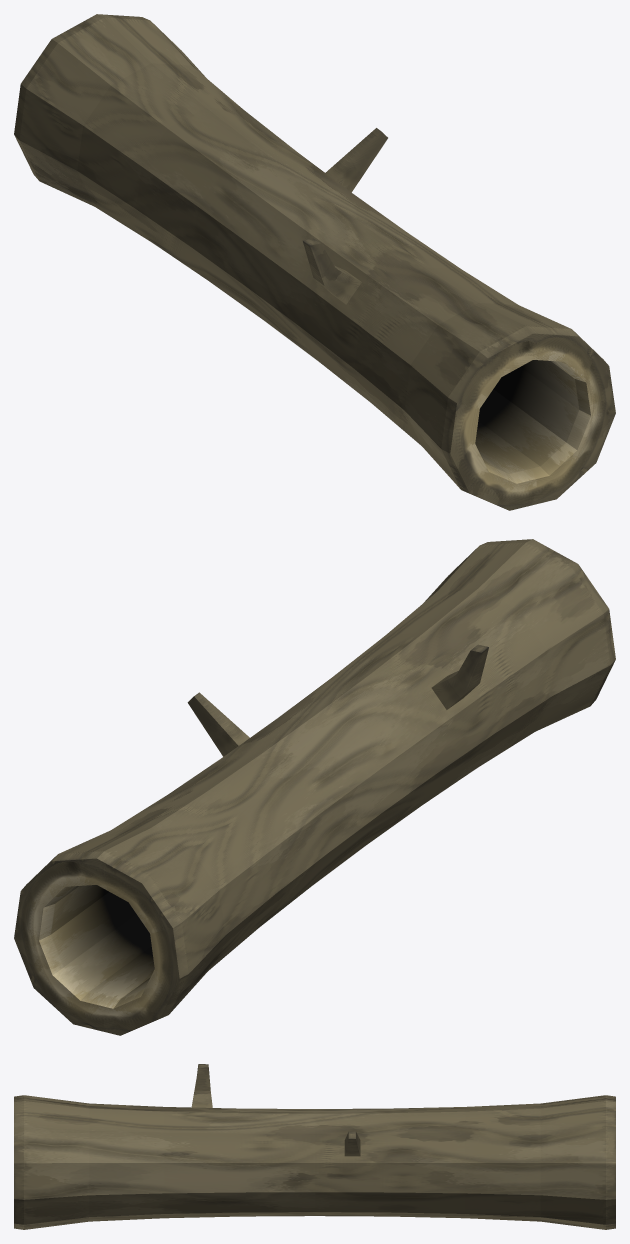
Rendered from stylized_dead_tree.glb.
3 views of the same model, one above another, from view 1: azimuth 30°, elevation 25°; view 2: azimuth 150°, elevation 25°; view 3: azimuth 270°, elevation 25° (orthographic). The views are drawn at different scales.
Parts seen in each view (by area): view 1: Cylinder; view 2: Cylinder; view 3: Cylinder.
Boxes of the visible parts, x1,y1,x2,y2 form: Cylinder: (14, 14, 615, 510); Cylinder: (14, 539, 615, 1035); Cylinder: (14, 1064, 615, 1229).
Bounding box in the file's own units: 2.15 × 2.03 × 8.67.
1 material, 1 textured.
